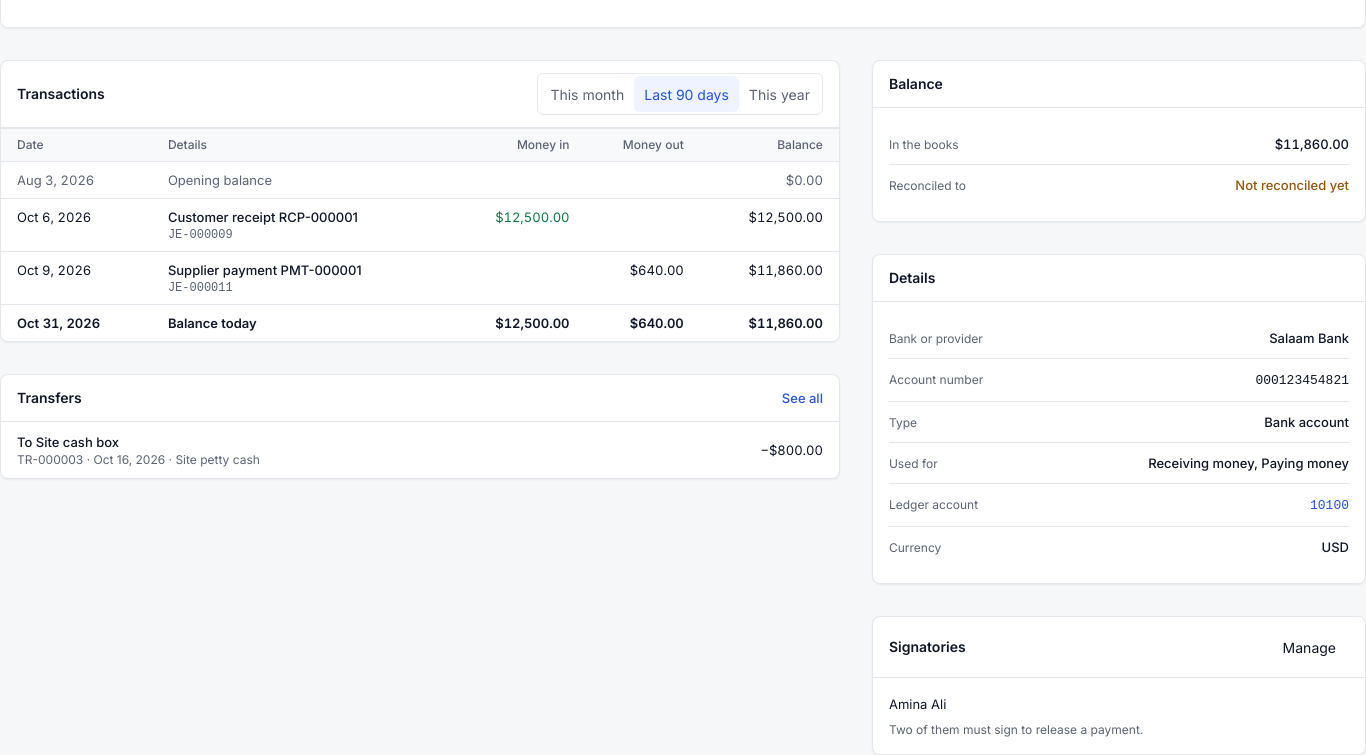
BankAccountPage (BK) › names the signatories and manages them in a dialog
(page scrolled)
Expected: the text "Two of them must sign to release a payment." is shown, [889, 722, 1143, 737]
Click the button "Manage" at (1309, 647), box [1270, 629, 1349, 665]
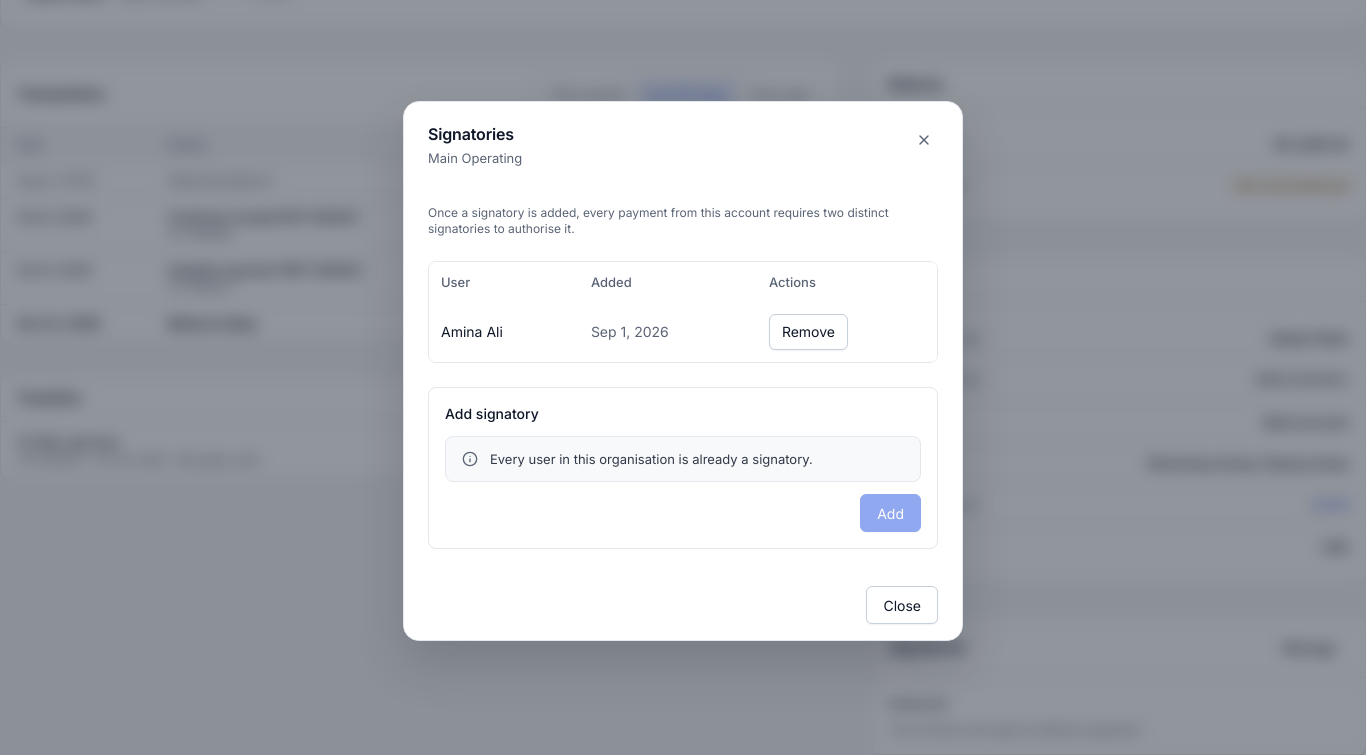
Expected: the text "Amina Ali" is shown, [429, 302, 579, 362]
